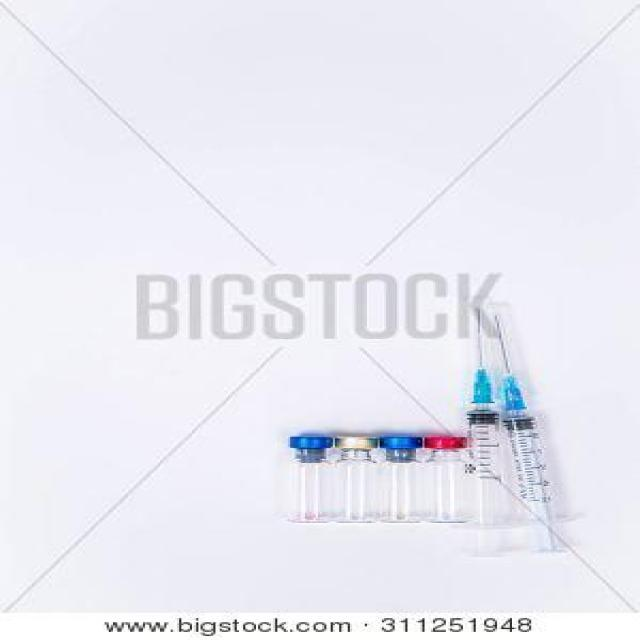B3: (500, 403, 582, 556), (465, 404, 512, 560), (284, 433, 337, 527), (422, 434, 476, 526), (378, 433, 427, 526), (333, 433, 380, 524), (489, 312, 529, 411), (467, 306, 497, 406)
